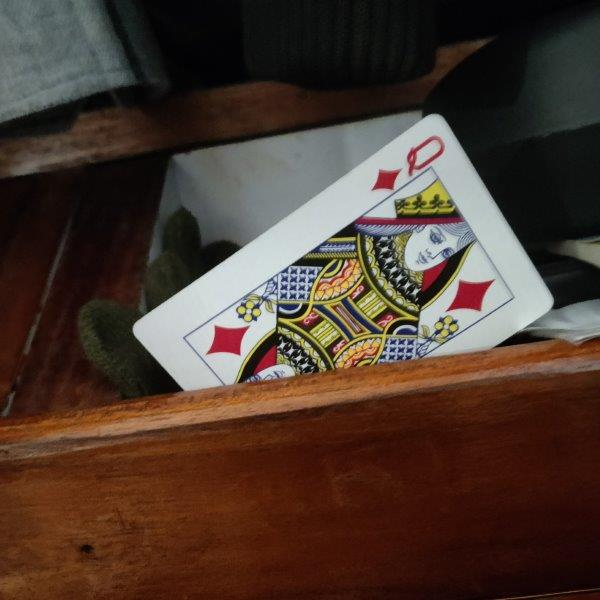Queen of Diamonds: (131, 113, 554, 391)
